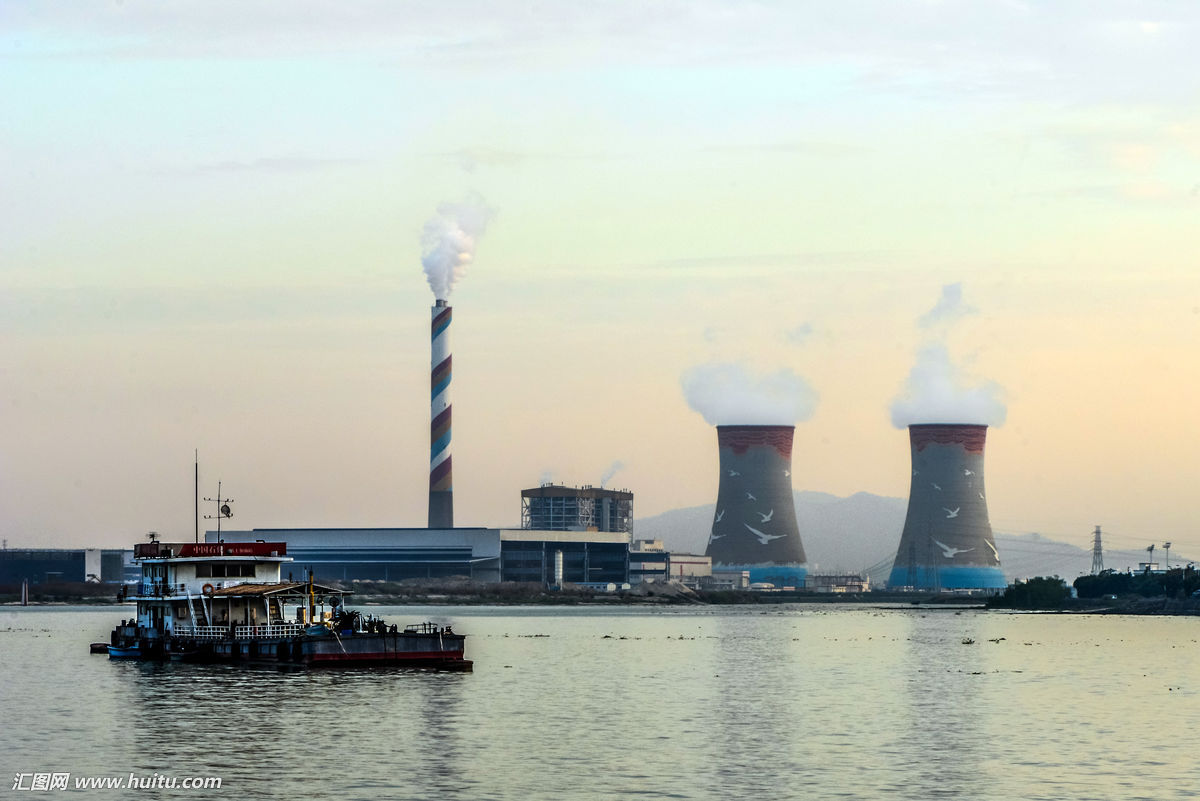dust: (880, 336, 1033, 436), (672, 338, 813, 439), (390, 182, 497, 312)
